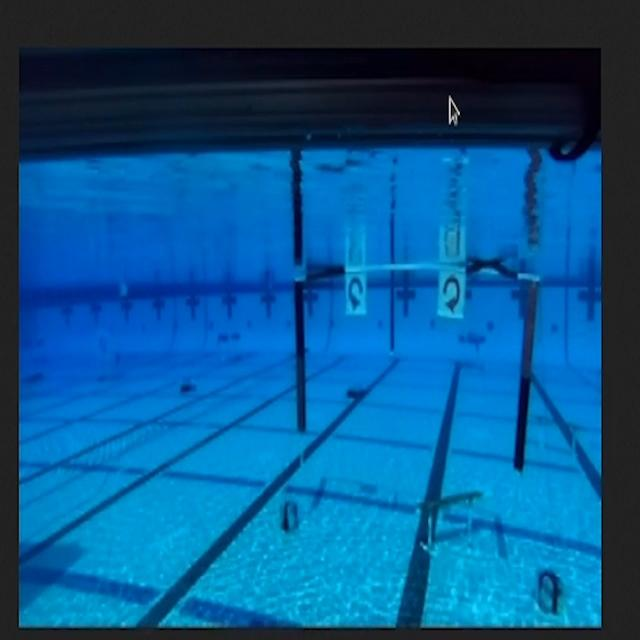Gate: (281, 251, 548, 487)
Path: (407, 478, 490, 558)
